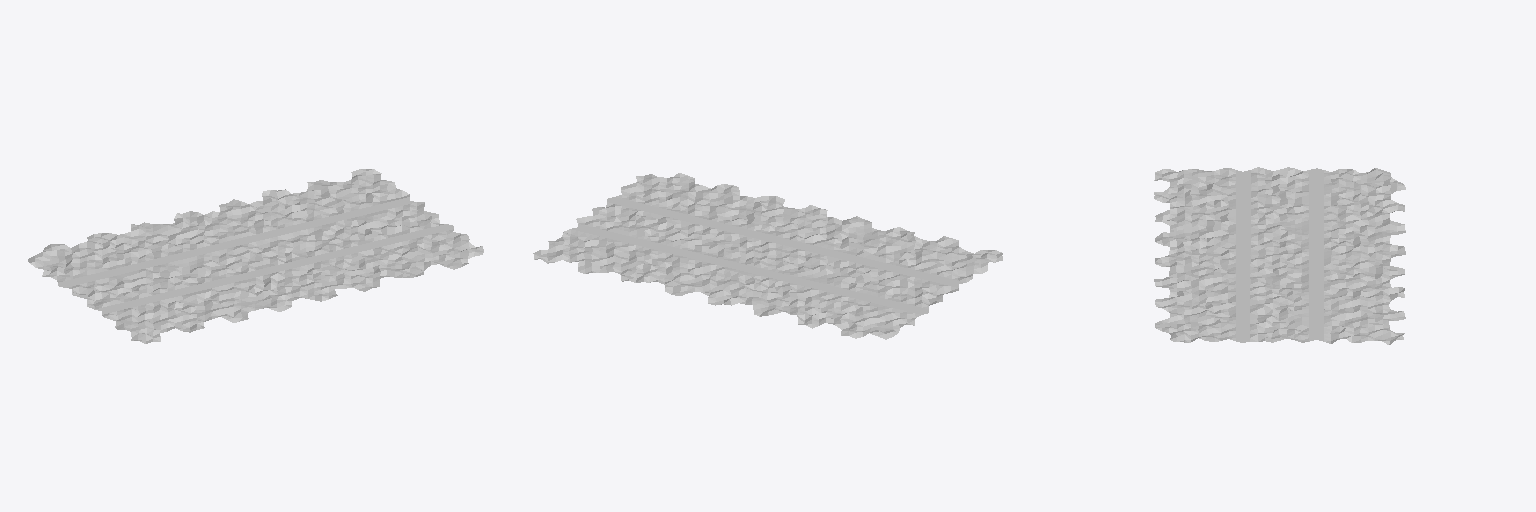
The model's file is terrain.obj.
The picture shows the model from 3 angles: view 1: azimuth 30°, elevation 25°; view 2: azimuth 150°, elevation 25°; view 3: azimuth 270°, elevation 25°; orthographic projection.
Visible parts, largest first — view 1: Terrain; view 2: Terrain; view 3: Terrain.
Boxes of the visible parts, box(x1,y1,x2,y2) form: Terrain: box(28, 169, 483, 343); Terrain: box(533, 173, 1002, 339); Terrain: box(1154, 167, 1405, 344).
Size of the model in its own units: 49.45 by 0.5478 by 29.89.